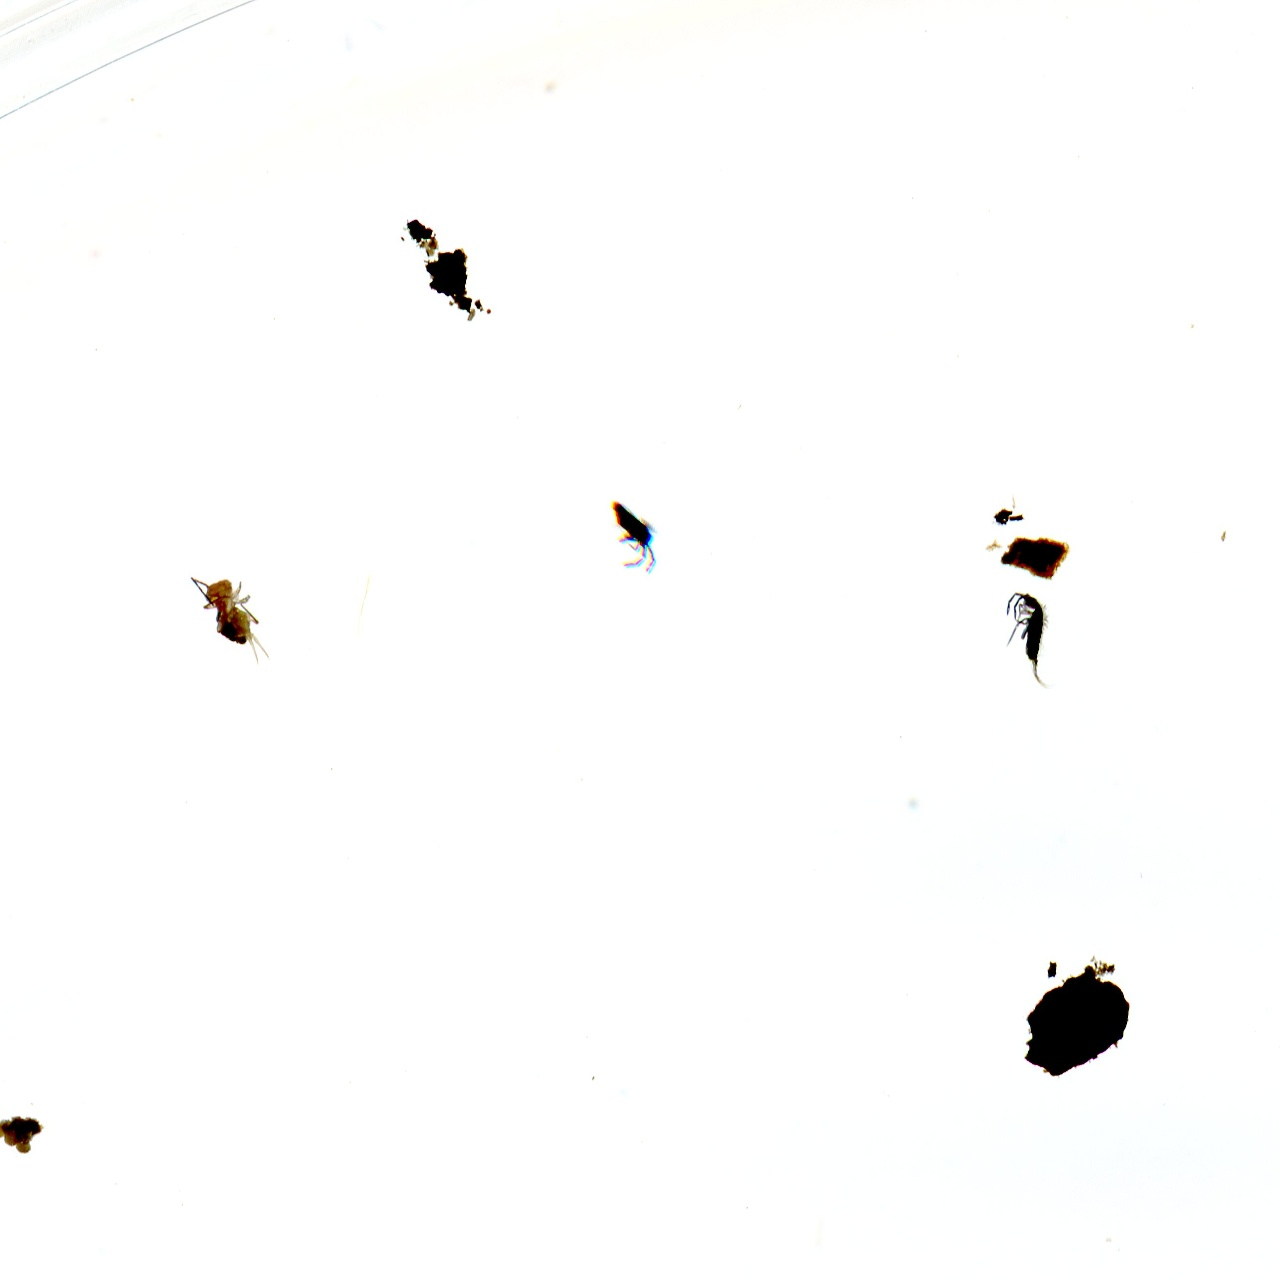arthropod: (184, 573, 272, 672), (1001, 588, 1057, 688), (602, 497, 674, 574)
